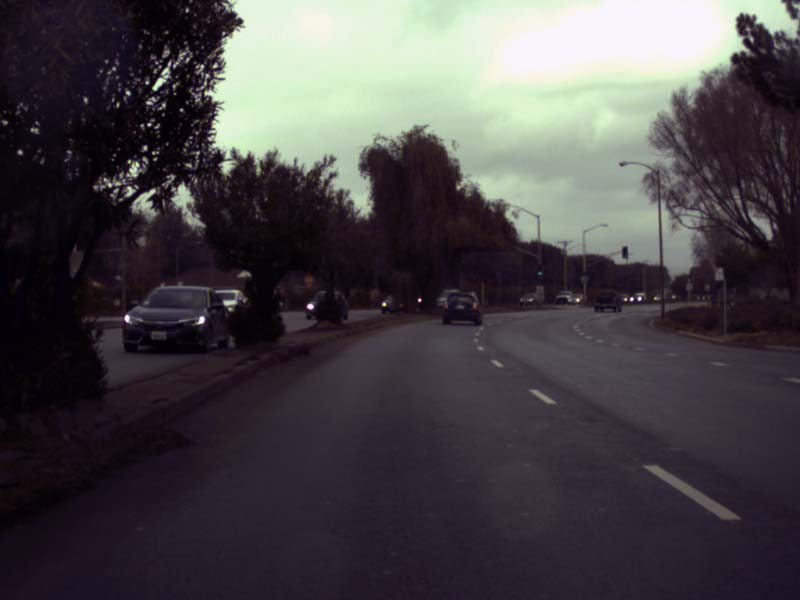Green: (536, 264, 543, 277), (621, 246, 627, 258), (687, 274, 690, 282), (583, 272, 586, 280)
